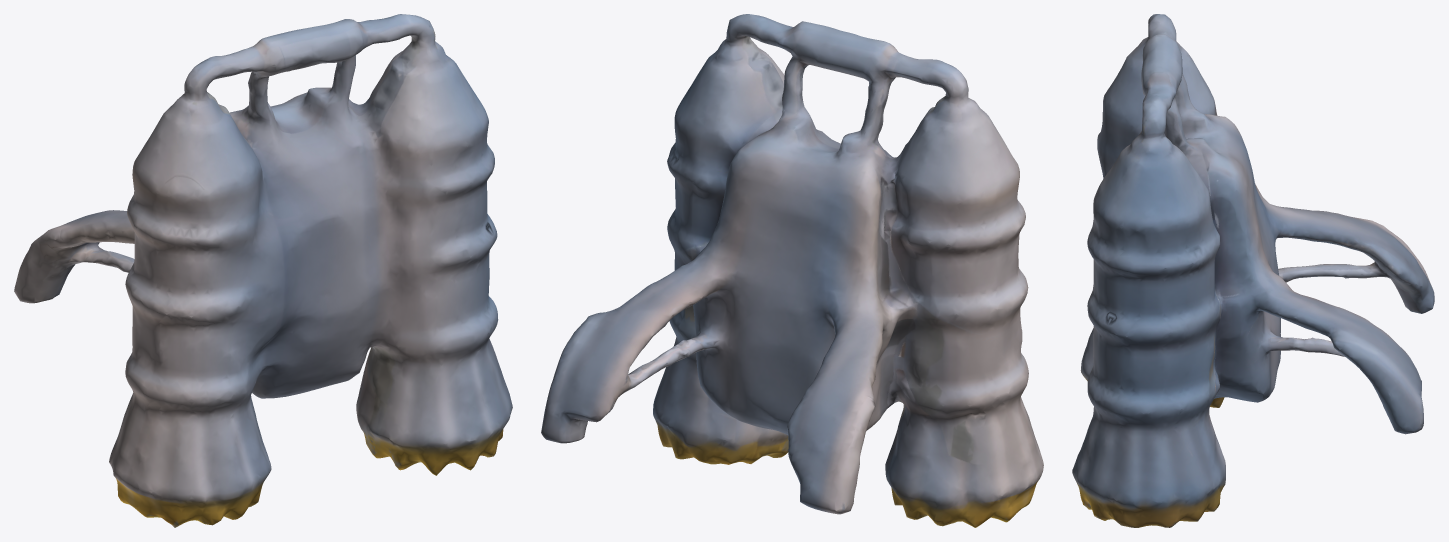
File: jetpack_0530162321_refine.fbx
3 renders of one model, left to right at view 1: azimuth 30°, elevation 25°; view 2: azimuth 150°, elevation 25°; view 3: azimuth 270°, elevation 25°, orthographic. The views are drawn at different scales.
Visible parts, largest first — view 1: Mesh_0; view 2: Mesh_0; view 3: Mesh_0.
Part boxes in pixels (x1,y1,x2,y2): Mesh_0: (14,14,512,527); Mesh_0: (541,14,1043,527); Mesh_0: (1072,14,1434,527).
Size of the model in its own units: 107 by 120 by 98.01.
1 material, 1 textured.
